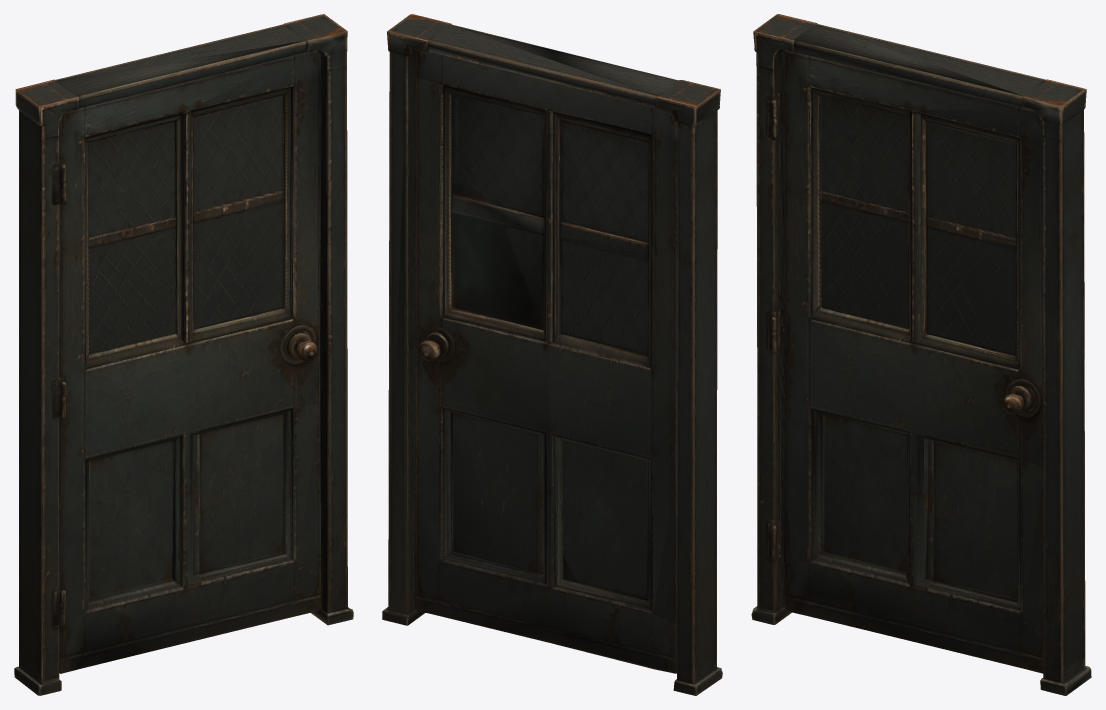
The model's file is door.fbx.
3 renders of one model, left to right at view 1: azimuth 30°, elevation 25°; view 2: azimuth 150°, elevation 25°; view 3: azimuth 330°, elevation 25°, orthographic.
Parts seen in each view (by area): view 1: door; view 2: door; view 3: door.
Boxes of the visible parts, x1,y1,x2,y2 form: door: (14, 14, 353, 695); door: (382, 14, 722, 695); door: (751, 14, 1091, 695).
Bounding box in the file's own units: 449 × 801 × 102.
1 material, 1 textured.
